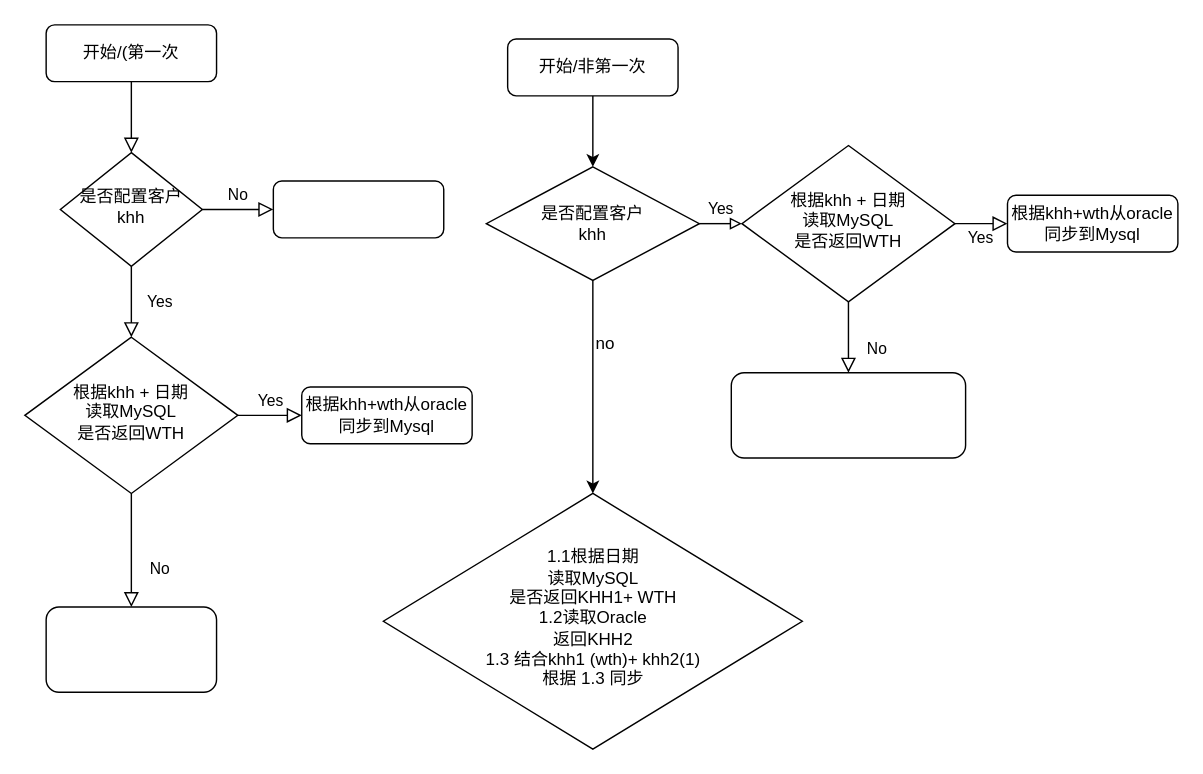
The diagram is 1203 pixels wide and 774 high, and some of its shapes have lost their labels. Each missing label, with the centre of its shape:
"从Oracle 读取khh 同步" belongs at point 131,649.
"从Oracle 读取khh(1) 同步" belongs at point 848,414.
"直接从Oracle读取全部客户信息同步" belongs at point 358,209.
